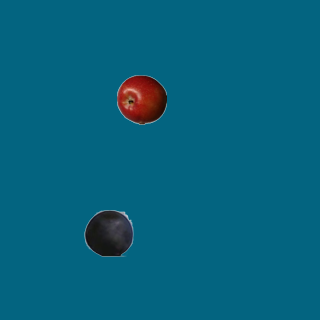Apple Braeburn: (116, 74, 166, 124)
Grape Blue: (83, 207, 133, 257)
